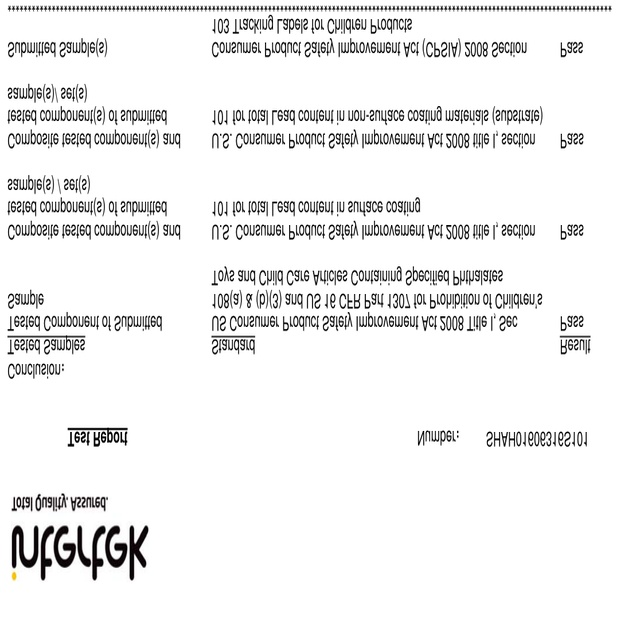intertek: (6, 517, 151, 588)
